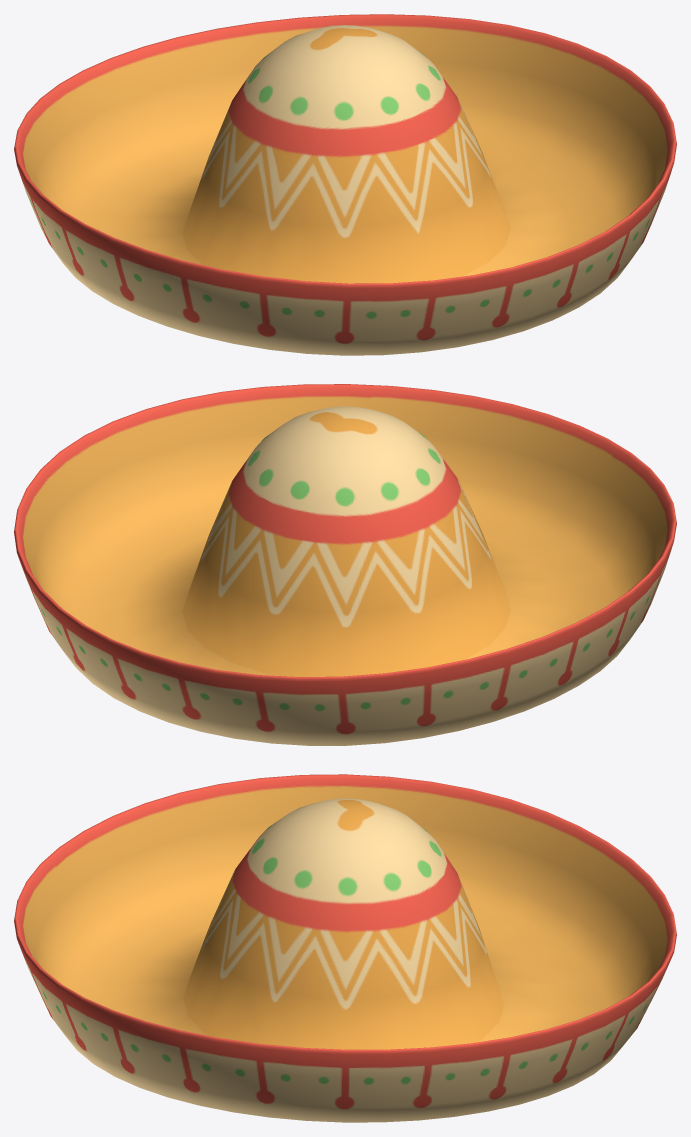
The model's file is Sombrero.fbx.
3 renders of one model, top to bottom at view 1: azimuth 30°, elevation 25°; view 2: azimuth 150°, elevation 25°; view 3: azimuth 270°, elevation 25°, orthographic.
Visible parts, largest first — view 1: Sombrero; view 2: Sombrero; view 3: Sombrero.
Boxes of the visible parts, <box> form: Sombrero: <box>14,14,676,355</box>; Sombrero: <box>14,384,676,745</box>; Sombrero: <box>14,774,676,1122</box>.
Bounding box in the file's own units: 76.14 × 26.9 × 77.11.
